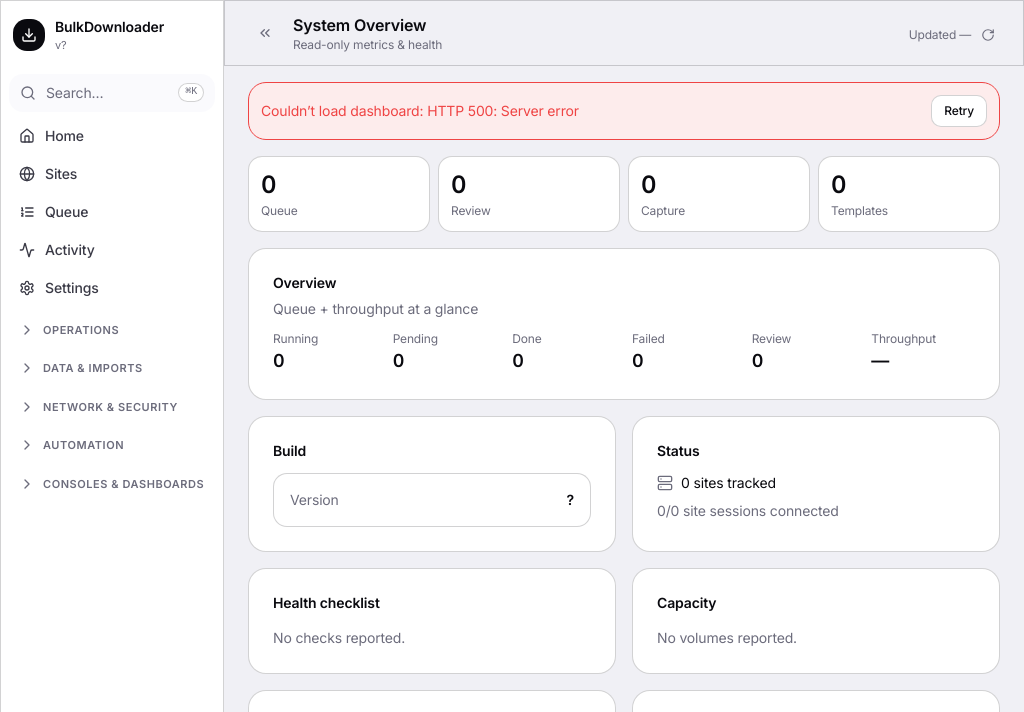
Scenario: T1 dashboard runtime wiring › Retry after an outage refetches and renders the recovered dashboard (F061)
This screenshot has width=1024, height=712.
Expected: the message "Couldn’t load dashboard: HTTP 500: Server error Retry" is shown, top-left (248, 82), bottom-right (1000, 140)
Expected: the text "913" is not shown
Click the button "Retry".
click(959, 111)  # box top-left (931, 95), bottom-right (987, 127)
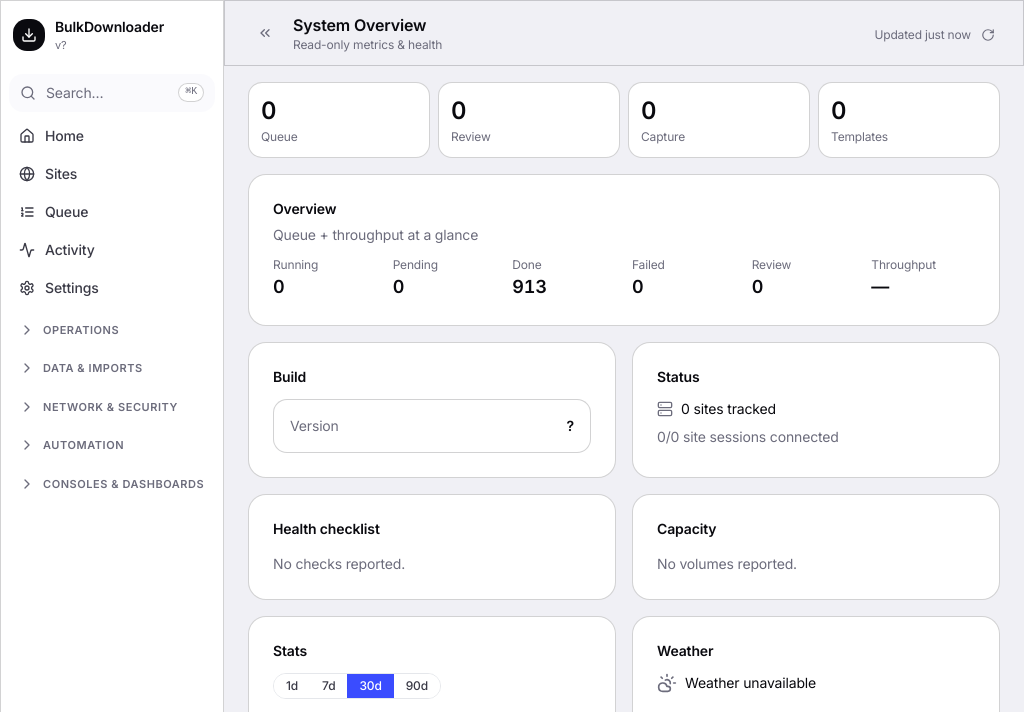
Result: the text "913" is shown at top-left (512, 276), bottom-right (547, 297)
Result: the message "Couldn’t load dashboard: HTTP 500: Server error Retry" is gone
